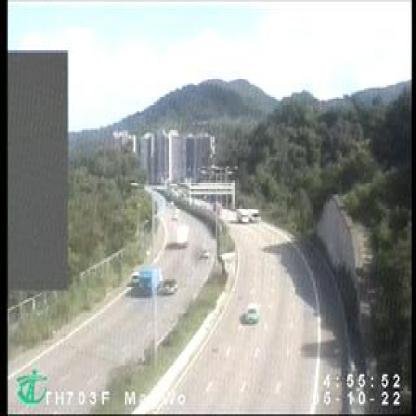Car: (244, 303, 259, 326), (162, 277, 176, 292)
Truck: (139, 263, 161, 293), (175, 222, 186, 244), (247, 205, 260, 220), (237, 206, 247, 222)
